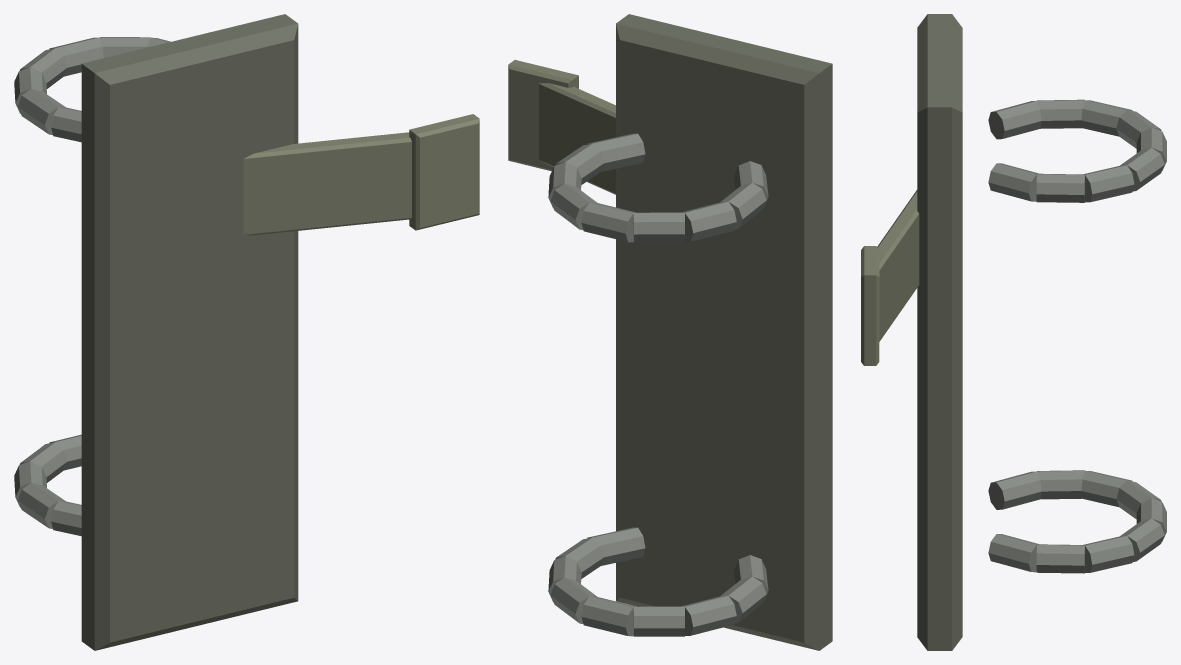
Rendered from CrowbarBeltHolder.fbx.
The picture shows the model from 3 angles, left to right: view 1: azimuth 30°, elevation 25°; view 2: azimuth 150°, elevation 25°; view 3: azimuth 270°, elevation 25°; orthographic projection. The views are drawn at different scales.
Parts seen in each view (by area): view 1: Body__Leather, BeltSuspension__Webbing, OpenRetainers__Steel, BeltLoop__Webbing; view 2: Body__Leather, OpenRetainers__Steel, BeltSuspension__Webbing, BeltLoop__Webbing; view 3: Body__Leather, OpenRetainers__Steel, BeltSuspension__Webbing, BeltLoop__Webbing.
Boxes of the visible parts, x1=… form: Body__Leather: x1=81, y1=14, x2=298, y2=650; BeltSuspension__Webbing: x1=243, y1=132, x2=411, y2=235; OpenRetainers__Steel: x1=14, y1=37, x2=170, y2=536; BeltLoop__Webbing: x1=409, y1=114, x2=479, y2=230; Body__Leather: x1=616, y1=14, x2=832, y2=650; OpenRetainers__Steel: x1=548, y1=133, x2=768, y2=636; BeltSuspension__Webbing: x1=539, y1=83, x2=615, y2=194; BeltLoop__Webbing: x1=508, y1=60, x2=578, y2=171; Body__Leather: x1=917, y1=14, x2=962, y2=650; OpenRetainers__Steel: x1=988, y1=99, x2=1166, y2=573; BeltSuspension__Webbing: x1=877, y1=190, x2=919, y2=341; BeltLoop__Webbing: x1=861, y1=246, x2=879, y2=365.
Size of the model in its own units: 0.126 by 0.198 by 0.1009.
